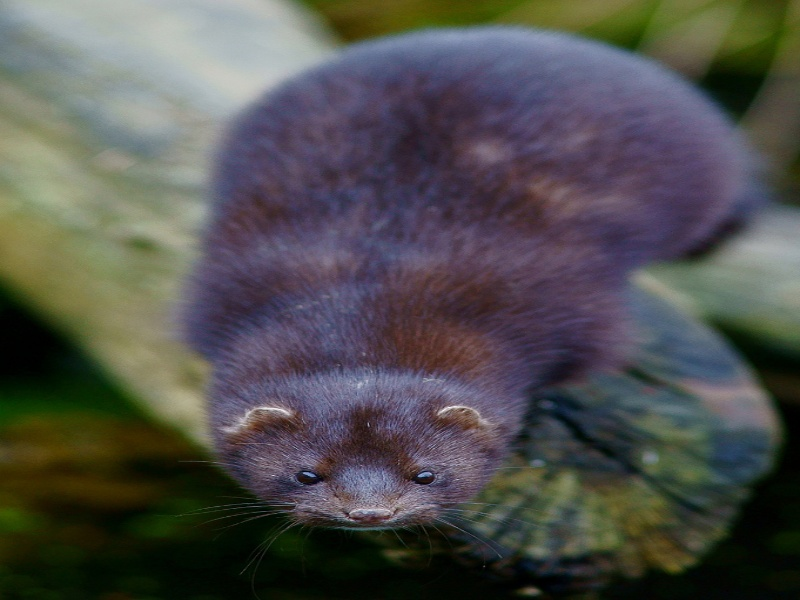minkish: (194, 26, 760, 543)
